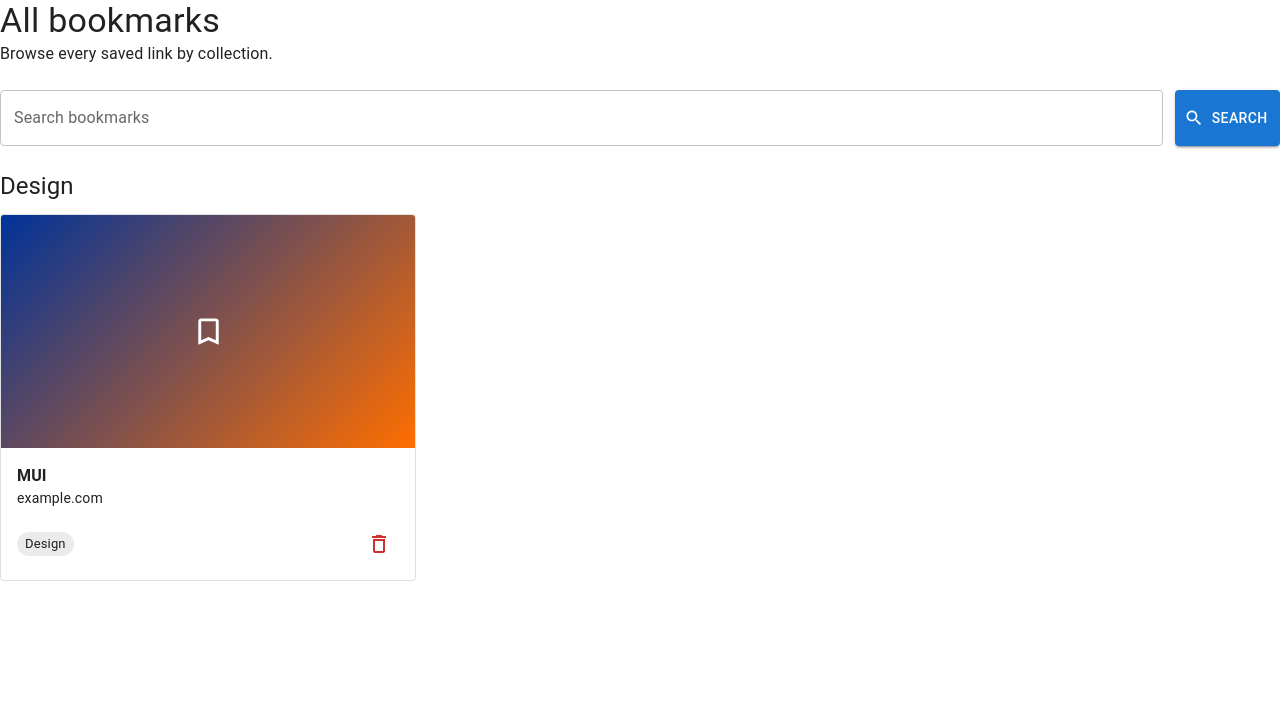
keeps the bookmark when deletion fails and shows a safe non-retryable error
The width and height of the screenshot is (1280, 720).
Click the button named "Delete bookmark" at (379, 544), box top-left (359, 524), bottom-right (399, 564)
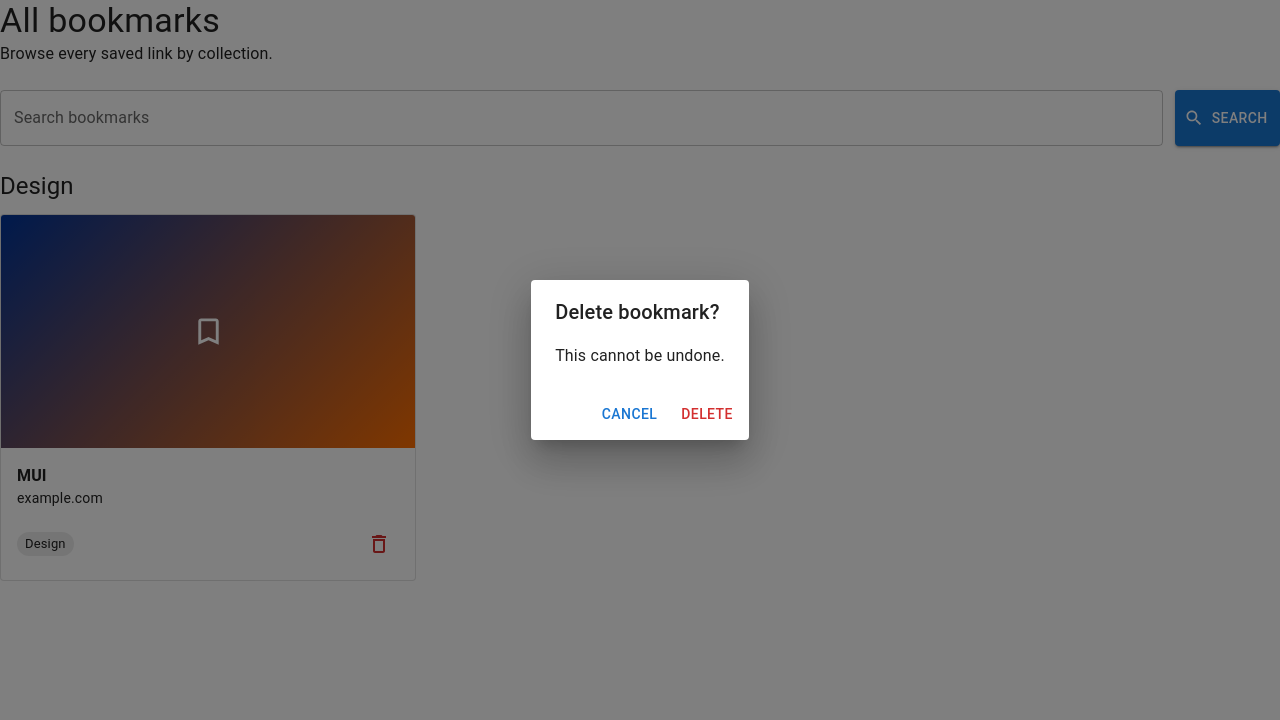
Click the button "Delete" at (707, 414), box top-left (673, 396), bottom-right (741, 432)
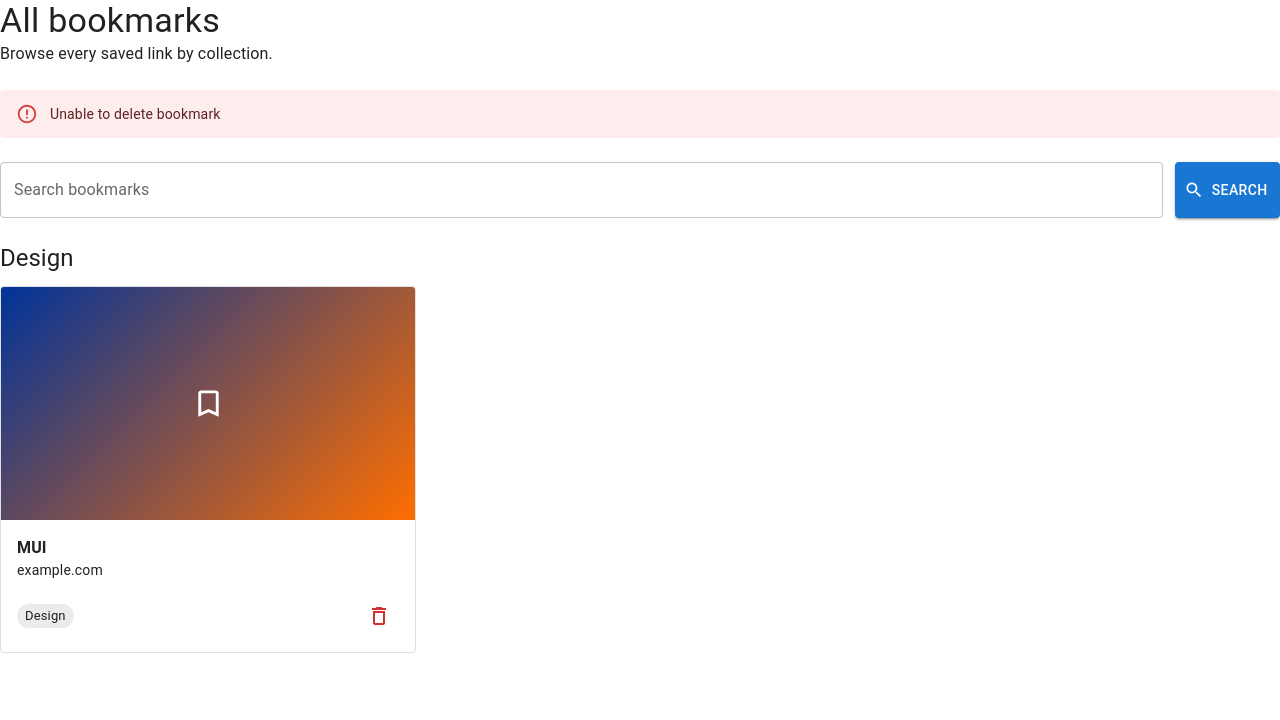
Expected: the link "MUI example.com" is shown, top-left (1, 287), bottom-right (415, 596)
Expected: the message reads "Unable to delete bookmark", top-left (50, 106), bottom-right (220, 122)
